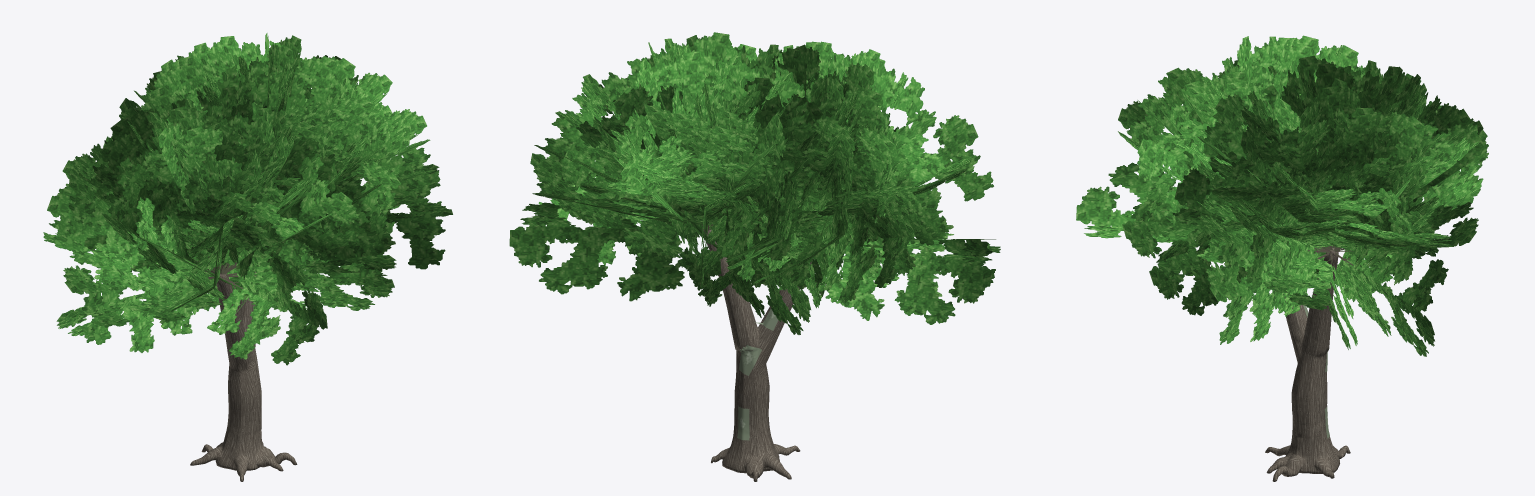
The model's file is environment_elm5_v59.fbx.
3 views of the same model, side by side, from view 1: azimuth 30°, elevation 25°; view 2: azimuth 150°, elevation 25°; view 3: azimuth 270°, elevation 25° (orthographic). The views are drawn at different scales.
Visible parts, largest first — view 1: environment_elm5_v59_lod0; view 2: environment_elm5_v59_lod0; view 3: environment_elm5_v59_lod0.
Boxes of the visible parts, x1,y1,x2,y2 form: environment_elm5_v59_lod0: (43, 33, 452, 481); environment_elm5_v59_lod0: (509, 32, 1000, 481); environment_elm5_v59_lod0: (1076, 35, 1488, 481).
Size of what is drawn, in the model's own units: 2751 by 2534 by 2486.
Materials: 3 (3 with a texture image).
